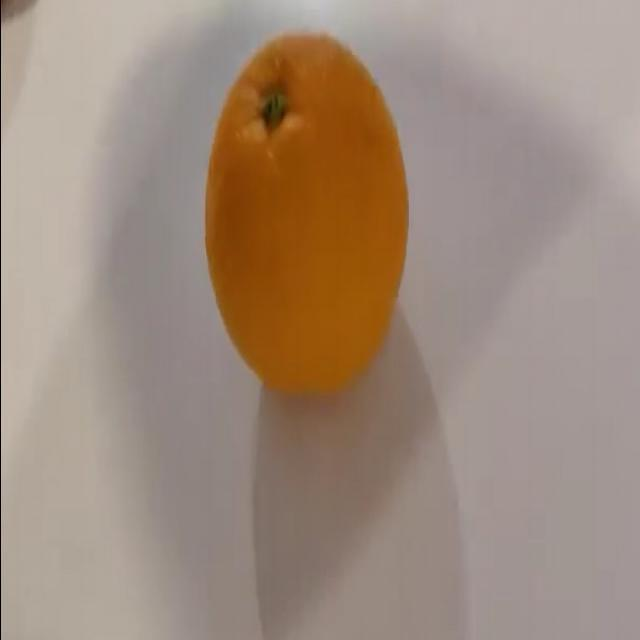Orange: (203, 29, 410, 395)
